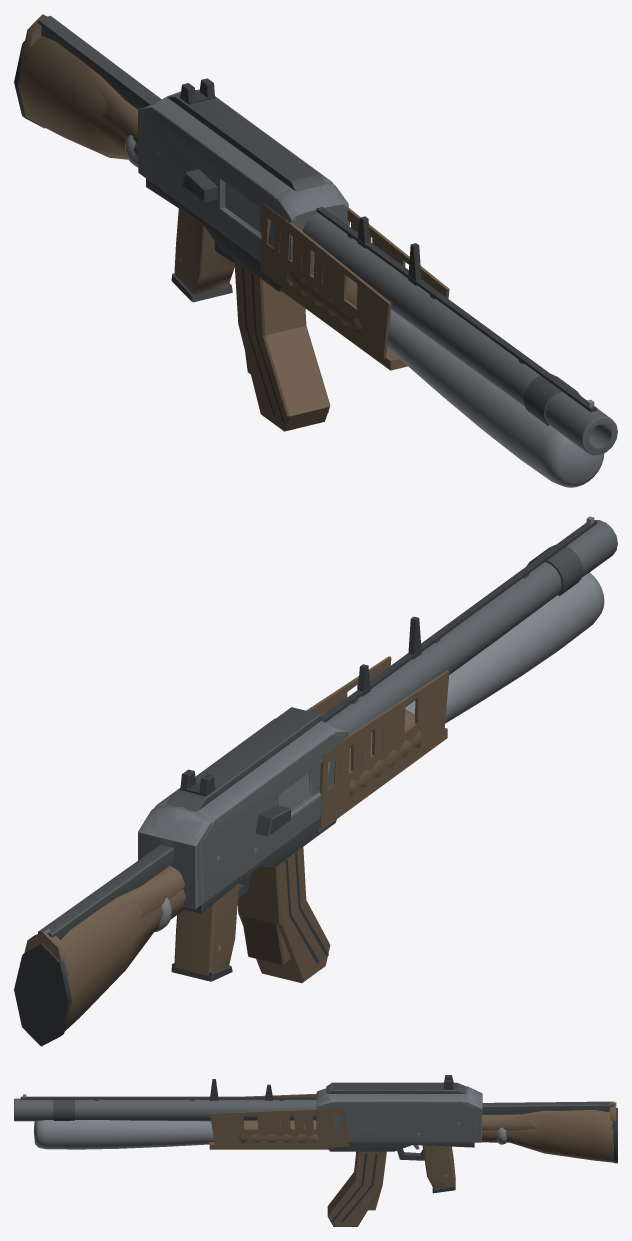
Rendered from world-weapons.glb.
3 renders of one model, top to bottom at view 1: azimuth 30°, elevation 25°; view 2: azimuth 150°, elevation 25°; view 3: azimuth 270°, elevation 25°, orthographic. The views are drawn at different scales.
Visible parts, largest first — view 1: shotgun__shotgun-barrel, bat__bat-wood, machinegun__machinegun-receiver, machinegun__machinegun-curved-magazine, shotgun__shotgun-shaped-stock, machinegun__machinegun-vented-handguard-1, machinegun__machinegun-top-cover, shotgun__shotgun-action, smg__smg-vented-handguard-1, machinegun__canted-pistol-grip, smg__smg-folding-stock-frame, shotgun__shotgun-sighting-rib (+7 smaller); view 2: machinegun__machinegun-receiver, shotgun__shotgun-barrel, bat__bat-wood, shotgun__shotgun-shaped-stock, shotgun__shotgun-action, machinegun__machinegun-vented-handguard-1, machinegun__machinegun-curved-magazine, machinegun__machinegun-top-cover, machinegun__canted-pistol-grip, machinegun__machinegun-stock-pad, smg__smg-curved-magazine, smg__smg-vented-handguard-1 (+8 smaller); view 3: machinegun__machinegun-receiver, shotgun__shotgun-barrel, bat__bat-wood, shotgun__shotgun-shaped-stock, machinegun__machinegun-vented-handguard--1, machinegun__machinegun-curved-magazine, machinegun__machinegun-top-cover, smg__smg-vented-handguard--1, smg__smg-folding-stock-frame, machinegun__canted-pistol-grip, machinegun__machinegun-full-stock, shotgun__shotgun-sighting-rib (+7 smaller).
Part boxes in pixels (x1,y1,x2,y2): shotgun__shotgun-barrel: (303,213,617,455); bat__bat-wood: (125,135,604,487); machinegun__machinegun-receiver: (141,96,333,260); machinegun__machinegun-curved-magazine: (234,259,330,431); shotgun__shotgun-shaped-stock: (18,40,138,160); machinegun__machinegun-vented-handguard-1: (272,212,391,358); machinegun__machinegun-top-cover: (167,89,325,191); shotgun__shotgun-action: (138,91,348,261); smg__smg-vented-handguard-1: (260,203,337,321); machinegun__canted-pistol-grip: (174,208,234,294); smg__smg-folding-stock-frame: (38,15,161,109); shotgun__shotgun-sighting-rib: (316,207,597,411); machinegun__machinegun-receiver: (155,719,345,902); shotgun__shotgun-barrel: (326,520,617,747); bat__bat-wood: (154,572,604,932); shotgun__shotgun-shaped-stock: (64,889,186,1031); shotgun__shotgun-action: (138,721,348,909); machinegun__machinegun-vented-handguard-1: (333,670,449,817); machinegun__machinegun-curved-magazine: (237,847,330,983); machinegun__machinegun-top-cover: (167,707,325,811); machinegun__canted-pistol-grip: (174,883,238,975); machinegun__machinegun-stock-pad: (15,943,70,1045); smg__smg-curved-magazine: (241,867,290,964); smg__smg-vented-handguard-1: (319,708,398,826); machinegun__machinegun-receiver: (321,1094,477,1141); shotgun__shotgun-barrel: (14,1098,316,1121); bat__bat-wood: (34,1120,506,1149); shotgun__shotgun-shaped-stock: (482,1110,613,1162); machinegun__machinegun-vented-handguard--1: (209,1109,335,1147); machinegun__machinegun-curved-magazine: (327,1151,386,1226); machinegun__machinegun-top-cover: (326,1082,466,1093); smg__smg-vented-handguard--1: (264,1109,348,1147); smg__smg-folding-stock-frame: (482,1101,614,1114); machinegun__canted-pistol-grip: (422,1145,455,1188); machinegun__machinegun-full-stock: (482,1110,609,1130); shotgun__shotgun-sighting-rib: (20,1096,317,1099).
Bounding box in the file's own units: 0.086 × 0.2793 × 1.07.
